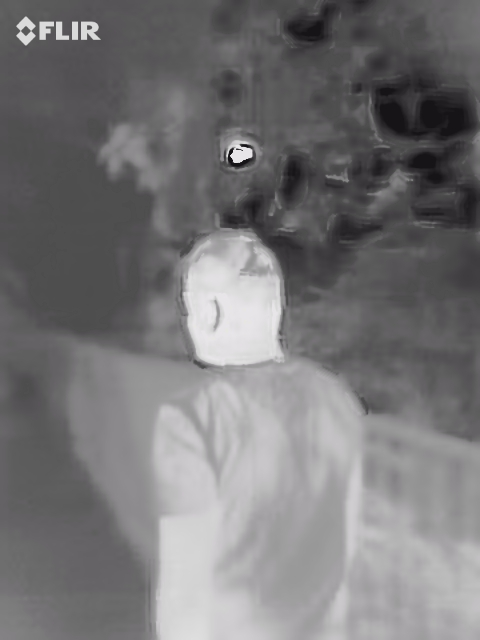head: (179, 232, 284, 367)
